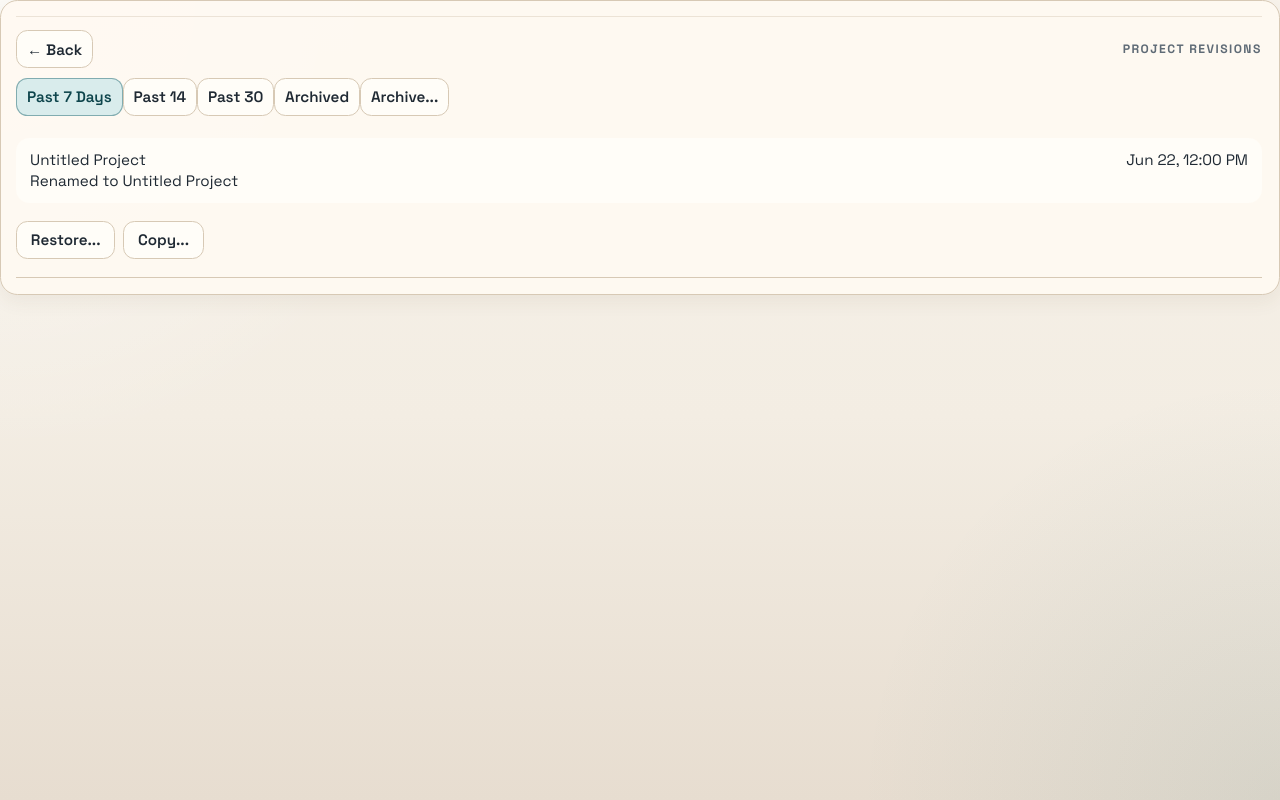
Test: EntityList project history retention › defaults to the past 7 days filter and lets the user expand to 14 days
Expected: the text "Untitled Project" is shown, [30,150,146,169]
Expected: the text "Ten Day Build" is not shown
Click the tab with test id "project-history-filter-14" at (160, 97), box [123,78,197,116]
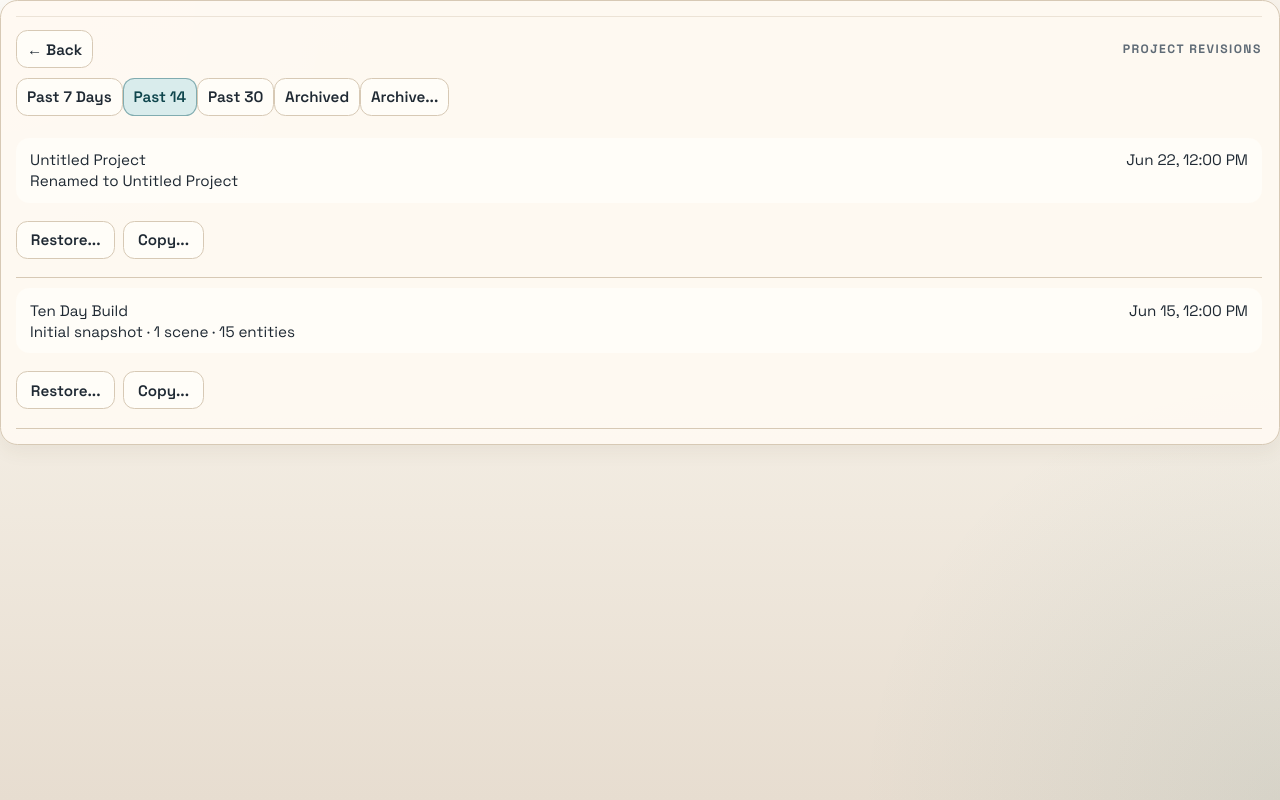
Result: the text "Ten Day Build" is shown at [30,301,128,320]
